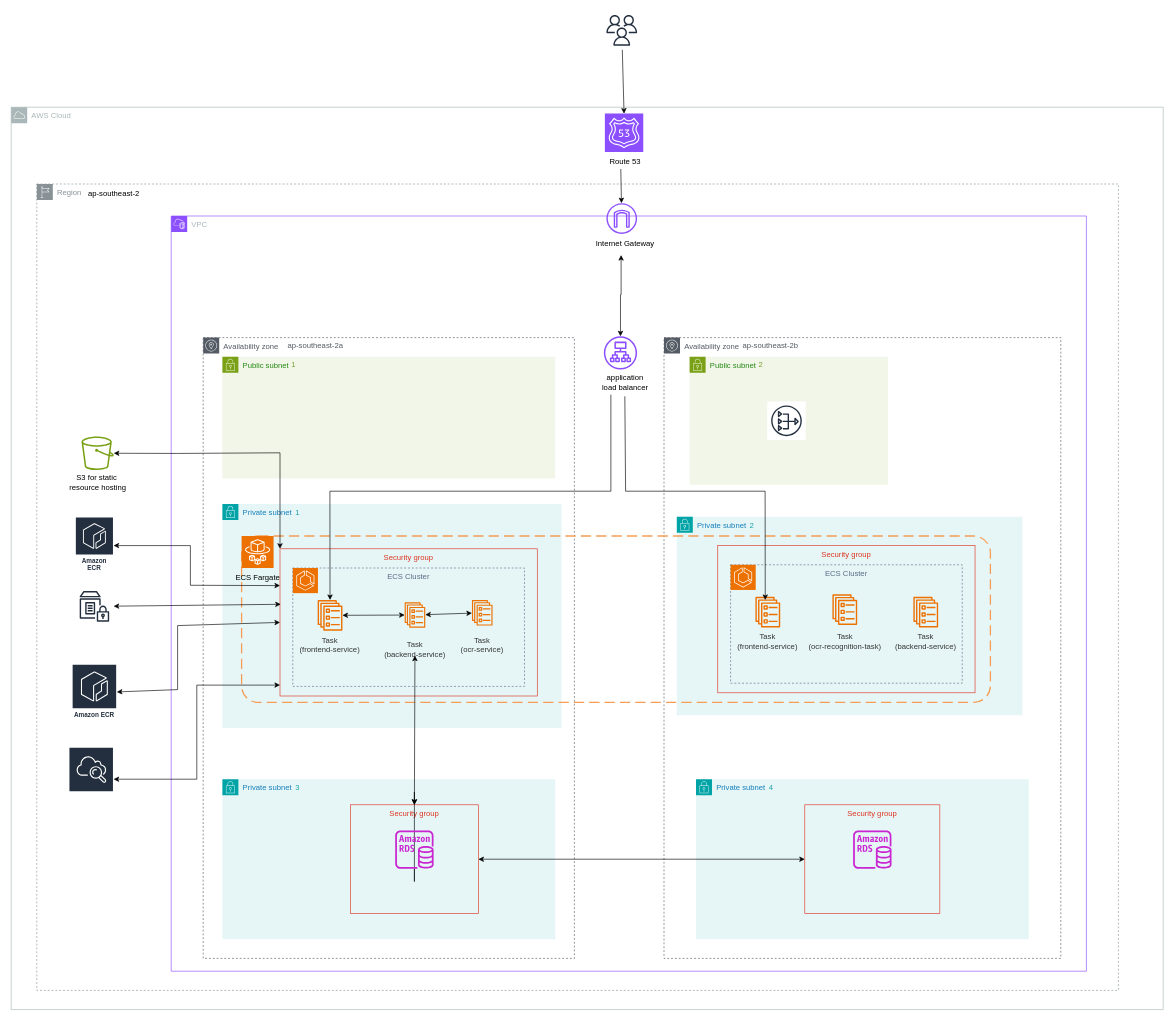
Image size: 1174x1021. Some labels were removed from this diagram. The centre of each missing label's shape, as x and y in pixels:
"Amazon CloudWatch" goes at (91,779).
"NAT gateway" goes at (786,420).
"Parameter Store" goes at (94,606).
"primary DB" goes at (414,849).
"Secondary" goes at (872,849).
"Users" goes at (621,30).
